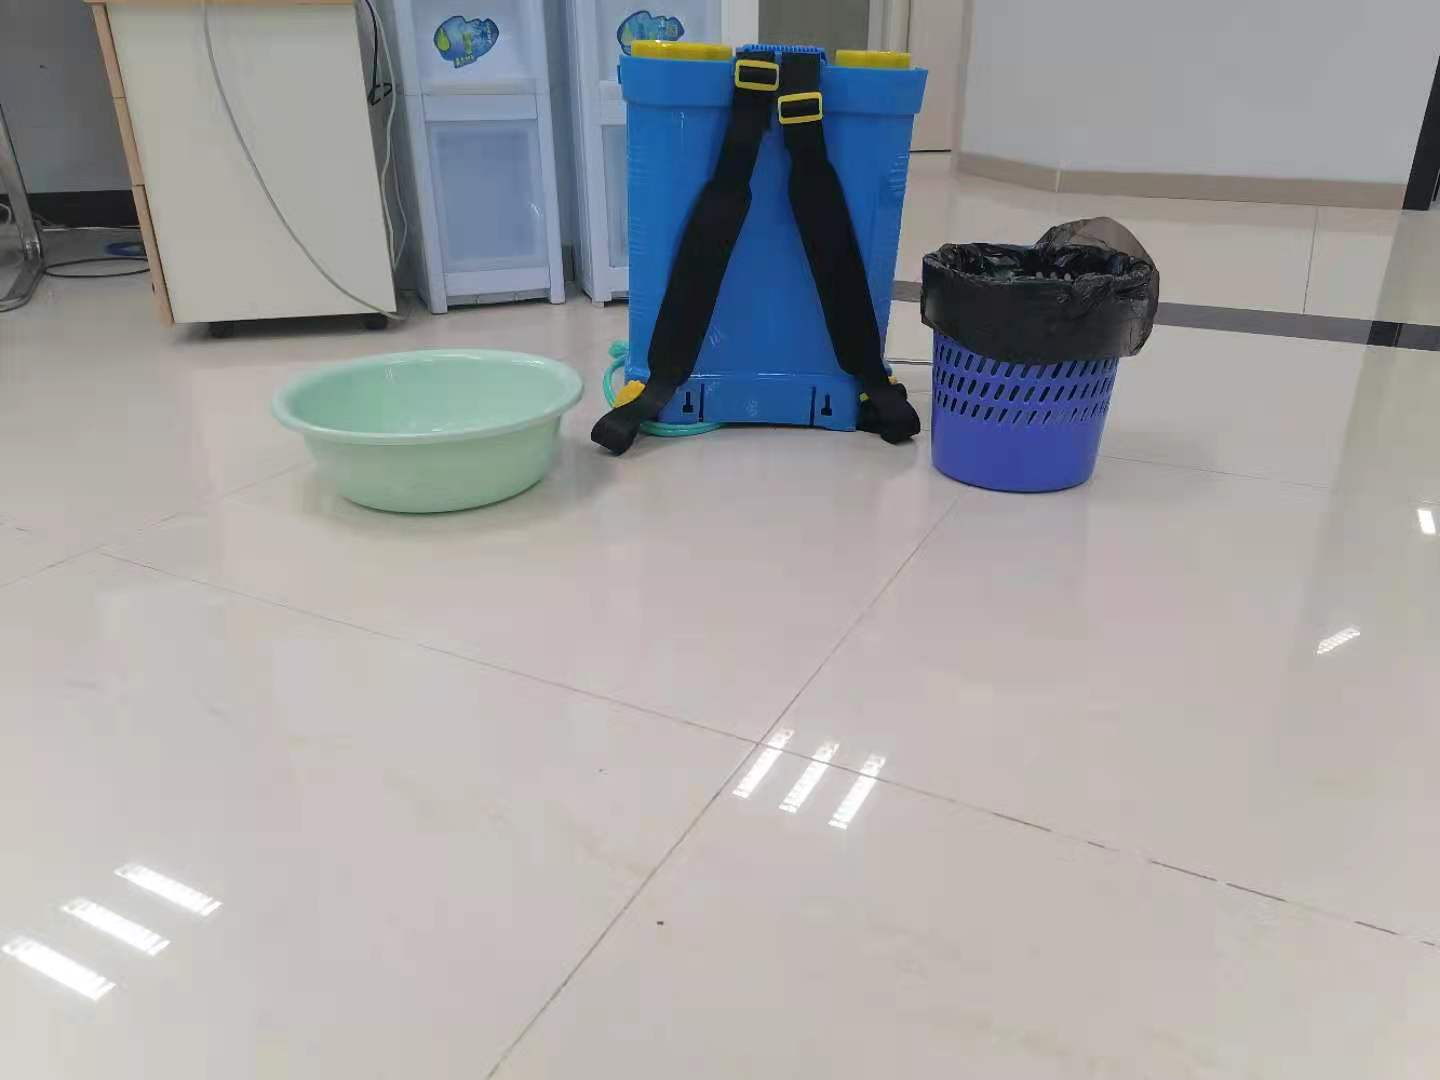berrl: (610, 27, 937, 446)
